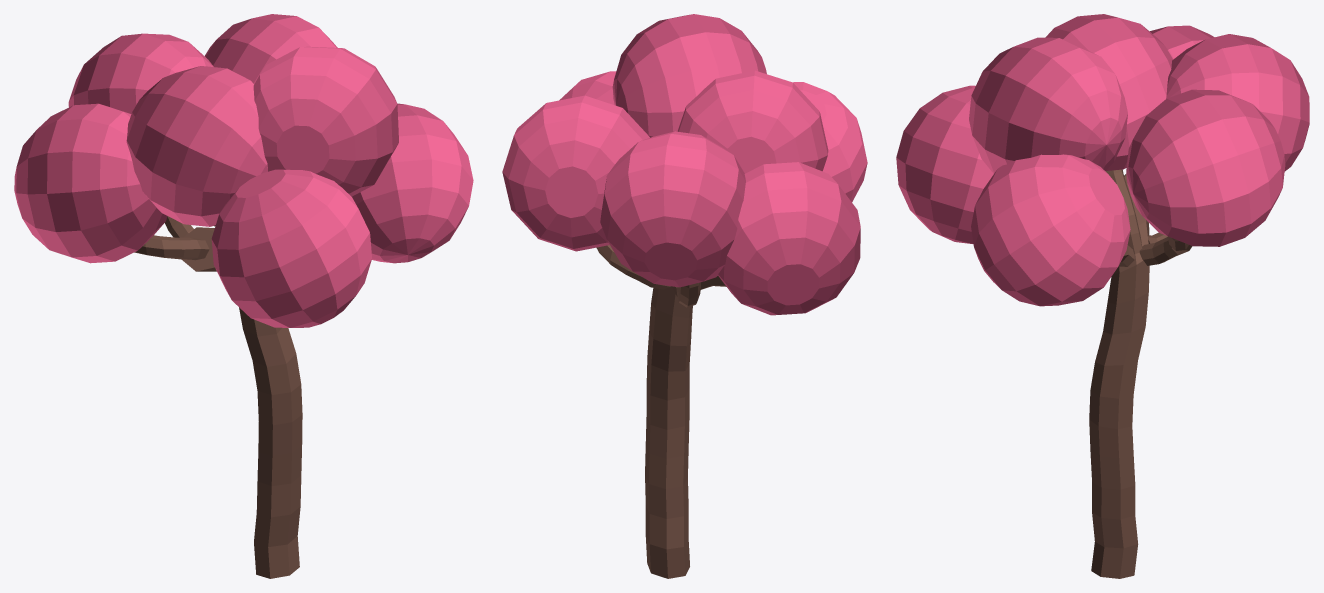
File: Sakura_Agac2.fbx
The picture shows the model from 3 angles, left to right: view 1: azimuth 30°, elevation 25°; view 2: azimuth 150°, elevation 25°; view 3: azimuth 270°, elevation 25°; orthographic projection. The views are drawn at different scales.
Parts seen in each view (by area): view 1: Agac1; view 2: Agac1; view 3: Agac1.
Part boxes in pixels (x1,y1,x2,y2): Agac1: (14,14,473,578); Agac1: (502,14,867,578); Agac1: (896,14,1309,578).
Bounding box in the file's own units: 377 × 520 × 366.
